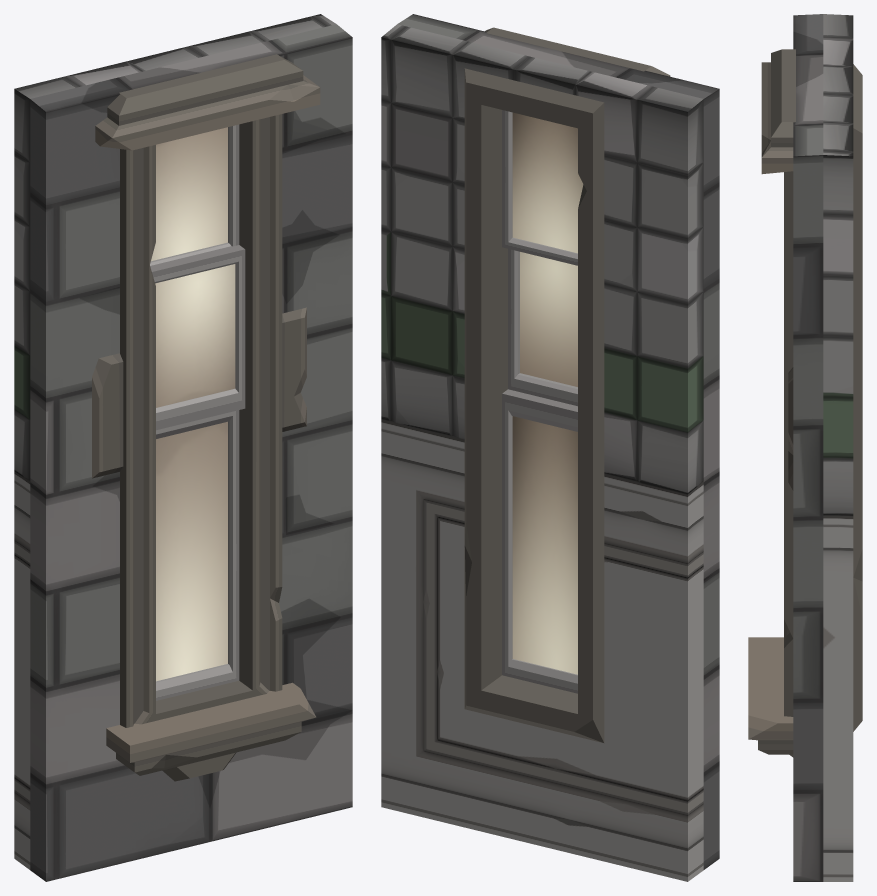
Rendered from SM_Bld_Wall_Window_Tall_04.fbx.
The picture shows the model from 3 angles, left to right: view 1: azimuth 30°, elevation 25°; view 2: azimuth 150°, elevation 25°; view 3: azimuth 270°, elevation 25°; orthographic projection. The views are drawn at different scales.
Visible parts, largest first — view 1: SM_Bld_Wall_Window_Tall_04, SM_Bld_Wall_Window_Tall_04_Glass; view 2: SM_Bld_Wall_Window_Tall_04, SM_Bld_Wall_Window_Tall_04_Glass; view 3: SM_Bld_Wall_Window_Tall_04.
Boxes of the visible parts, box(x1,y1,x2,y2) form: SM_Bld_Wall_Window_Tall_04: box(14, 14, 352, 881); SM_Bld_Wall_Window_Tall_04_Glass: box(151, 127, 235, 681); SM_Bld_Wall_Window_Tall_04: box(381, 14, 719, 881); SM_Bld_Wall_Window_Tall_04_Glass: box(512, 112, 583, 674); SM_Bld_Wall_Window_Tall_04: box(748, 14, 862, 881).
Bounding box in the file's own units: 125 × 301 × 42.85.
